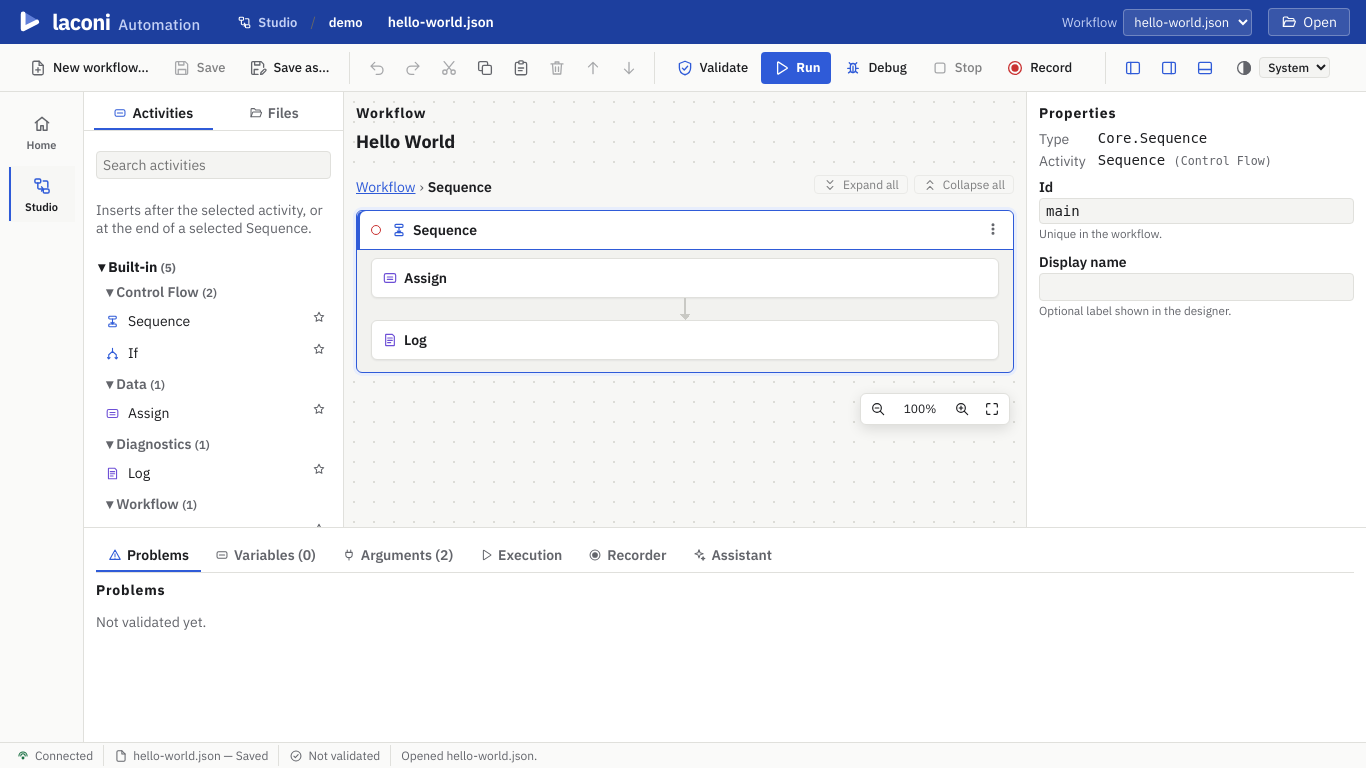
Usages › lists the activities that use a name; choosing one selects it
Click the tab "Arguments (2)". click: (397, 556)
box: [330,540,465,572]
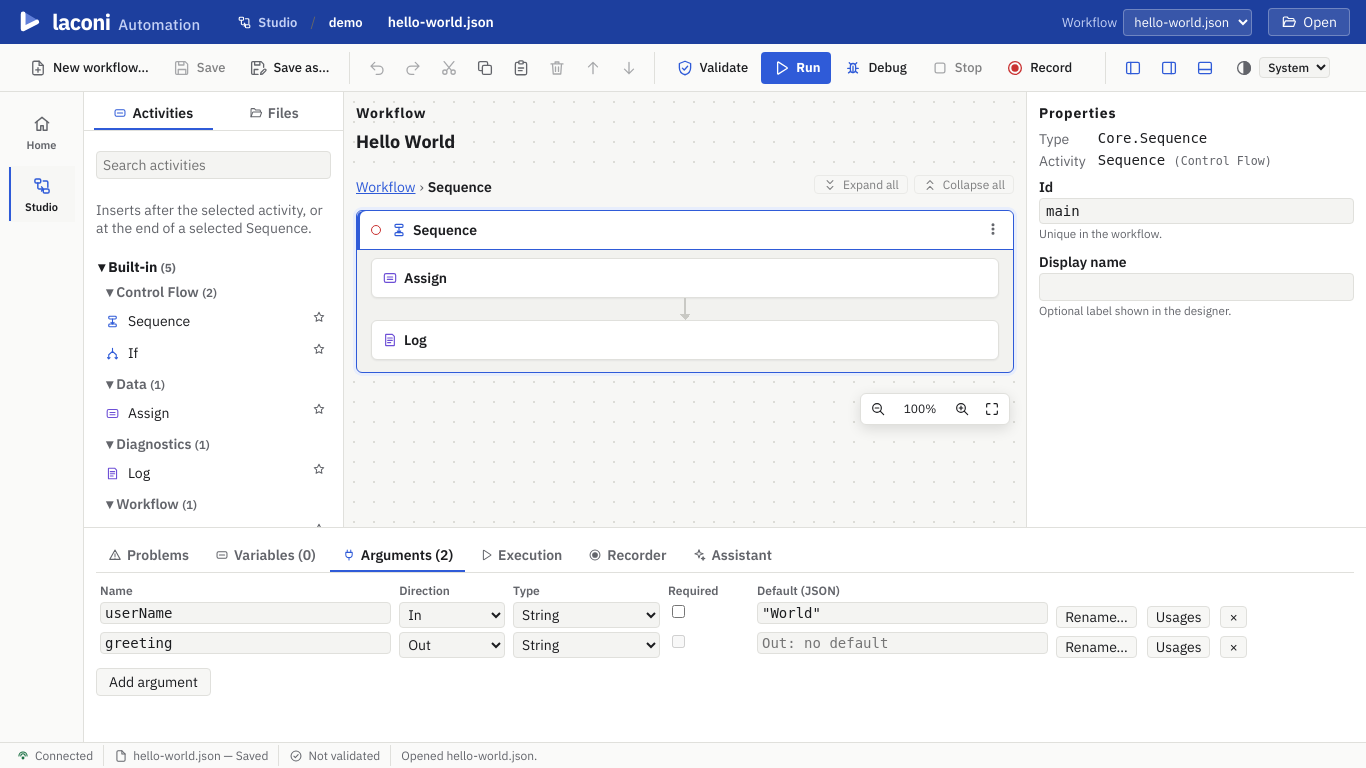
Click the button with aria-label "Usages of greeting". click: (1179, 647)
box: [1147,636,1210,658]
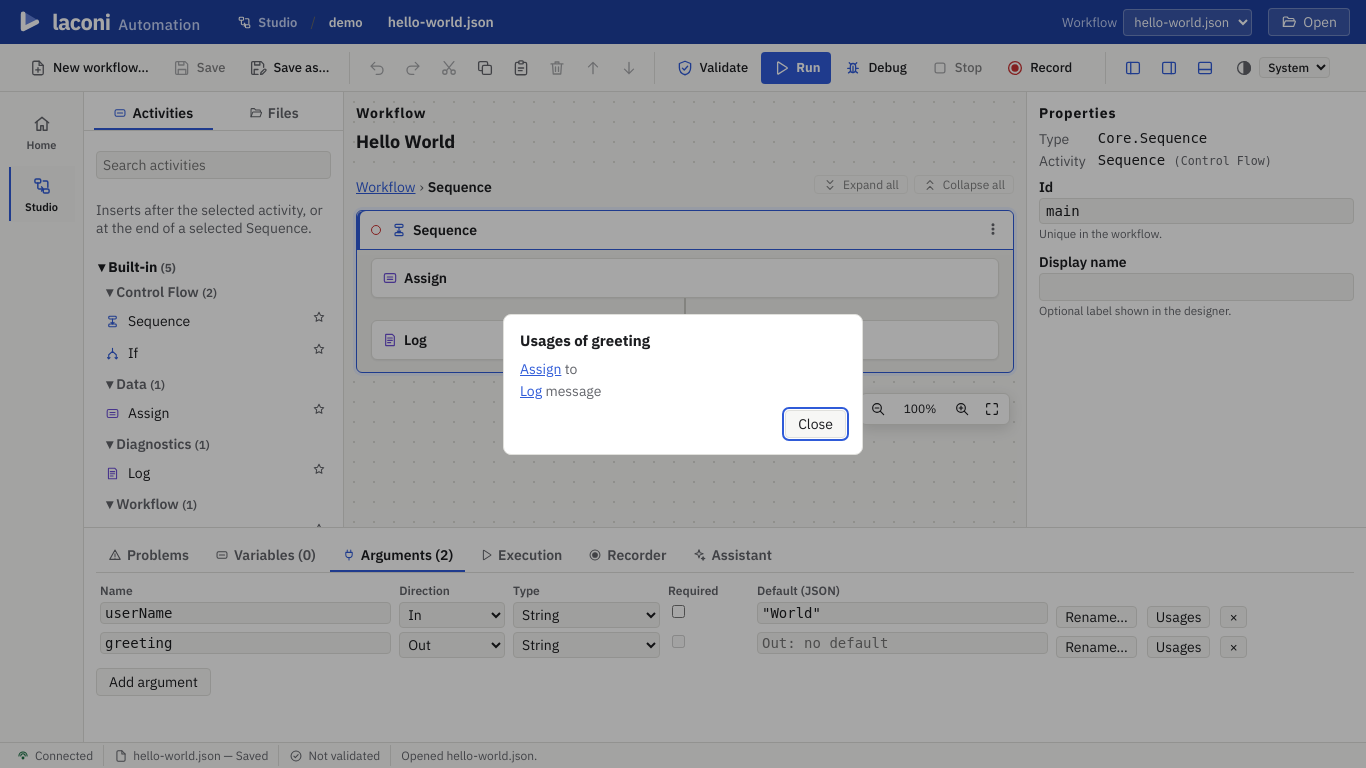
Expected: the list items read "Assign to", "Log message", in this order, [520,360,577,378]; [520,382,601,400]
Click the button "Log". click: (531, 390)
box: [520,382,542,400]
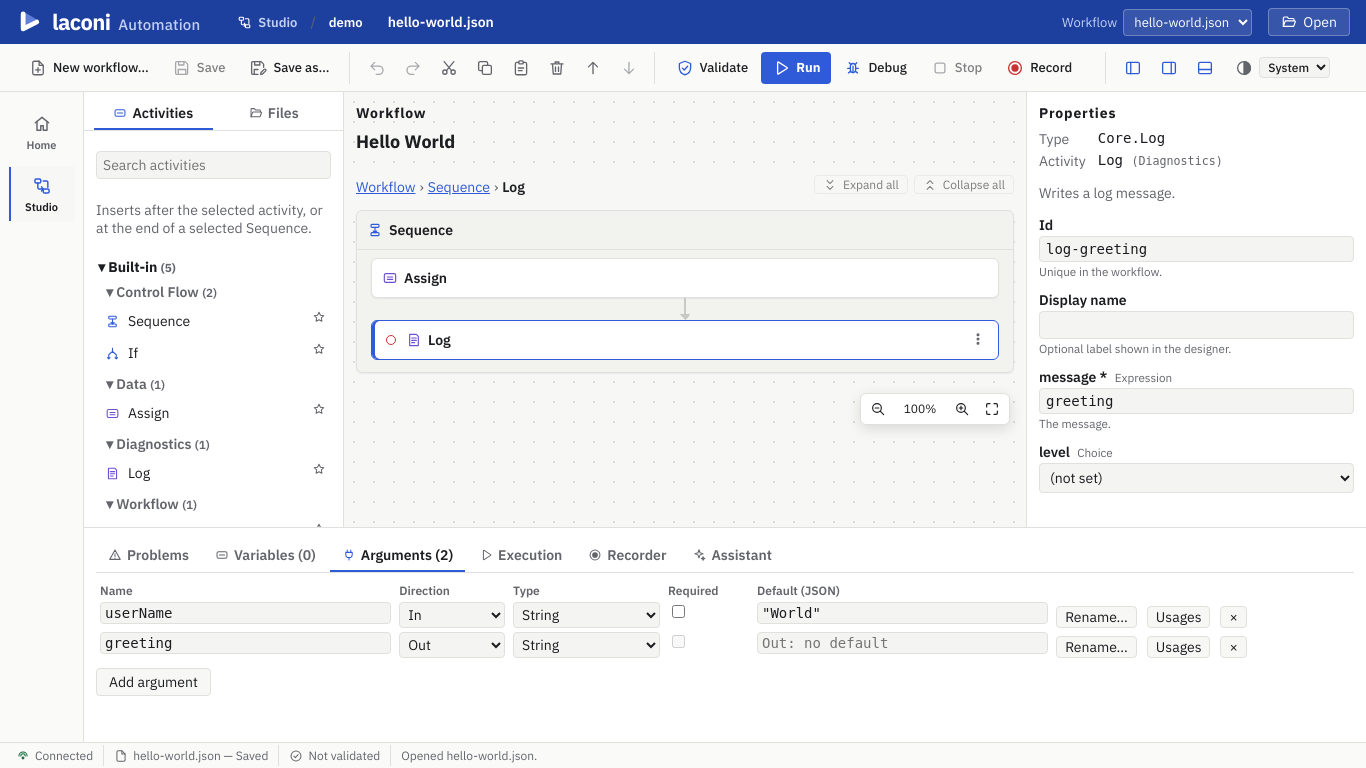
Expected: the dialog is gone
